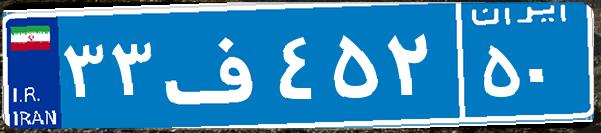0: (525, 38, 570, 115)
2: (385, 28, 445, 110)
3: (57, 26, 110, 107), (110, 28, 158, 105)
4: (273, 28, 330, 110)
5: (330, 28, 385, 110), (475, 38, 525, 113)
ف: (158, 15, 273, 115)
